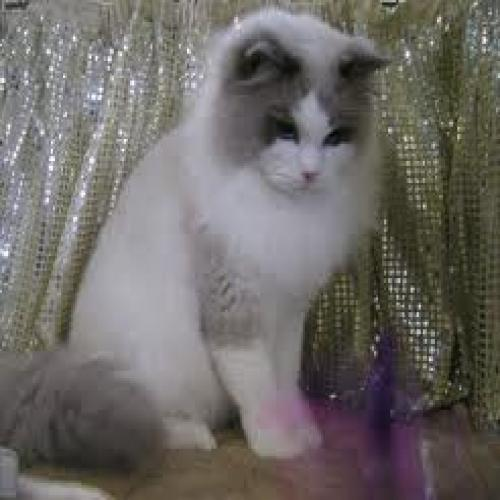ragdoll: (221, 12, 391, 229)
